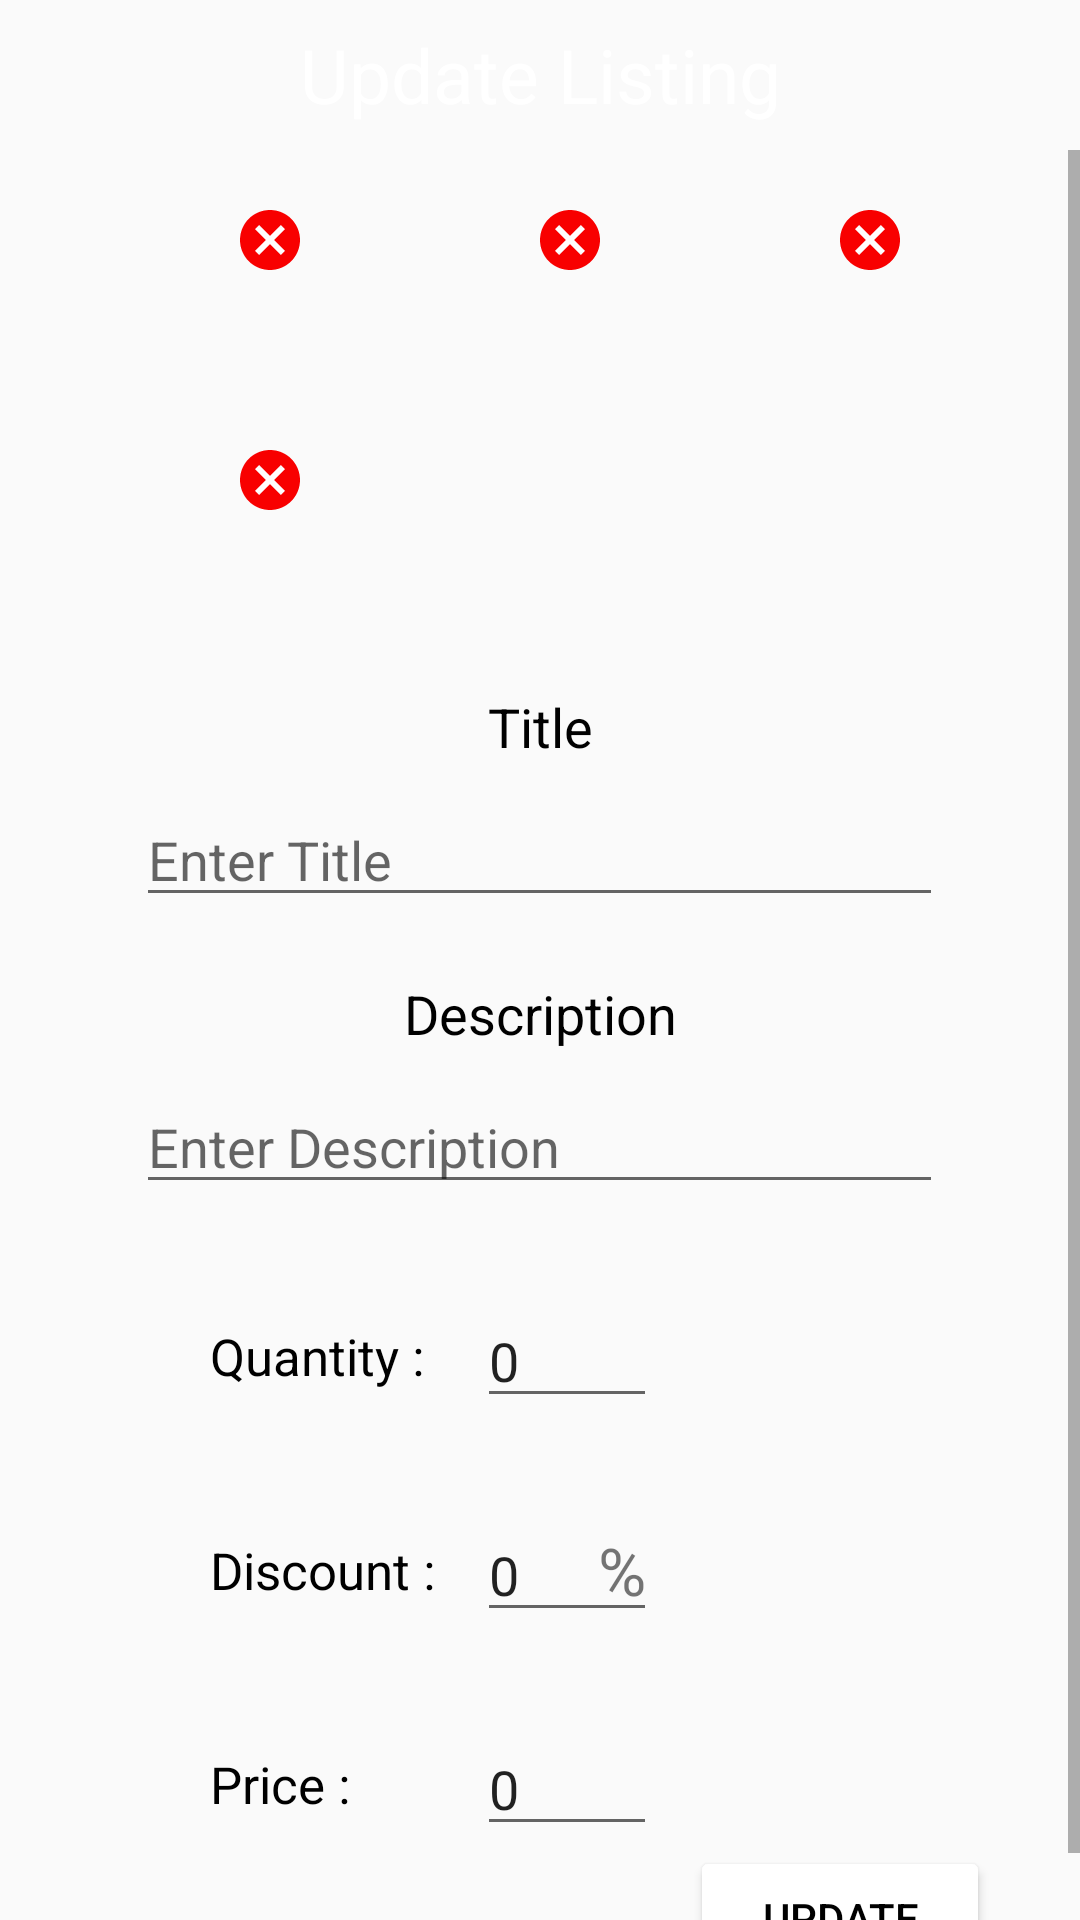

Named icons in this screenshot (1080x1920) and their bounding boxes, bbox(x1, y1, x2, y2):
cancel: bbox(240, 210, 300, 270), bbox(540, 210, 600, 270), bbox(840, 210, 900, 270), bbox(240, 450, 300, 510)
